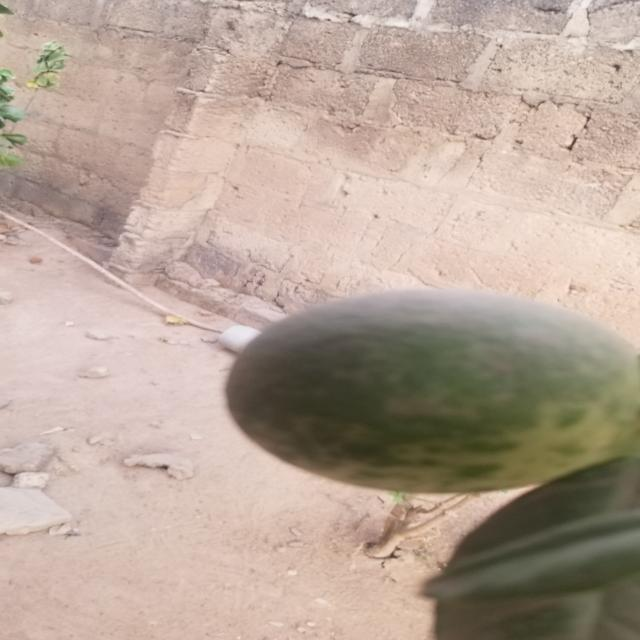Unripe: (238, 286, 640, 497)
